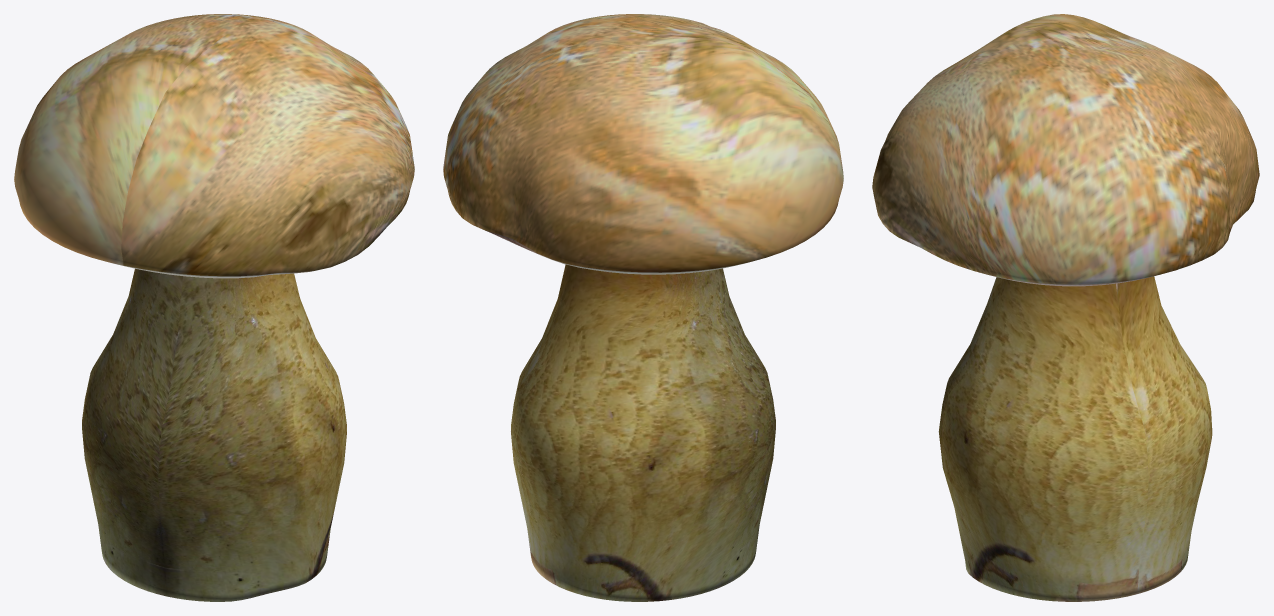
Rendered from gallenroehrling.glb.
3 renders of one model, left to right at view 1: azimuth 30°, elevation 25°; view 2: azimuth 150°, elevation 25°; view 3: azimuth 270°, elevation 25°, orthographic.
Parts seen in each view (by area): view 1: Cylinder; view 2: Cylinder; view 3: Cylinder.
Part boxes in pixels (bbox=[...]): Cylinder: bbox=[14, 14, 414, 601]; Cylinder: bbox=[443, 14, 843, 601]; Cylinder: bbox=[872, 14, 1259, 601].
Size of the model in its own units: 0.357 by 0.4998 by 0.3467.
Materials: 3 (3 with a texture image).
